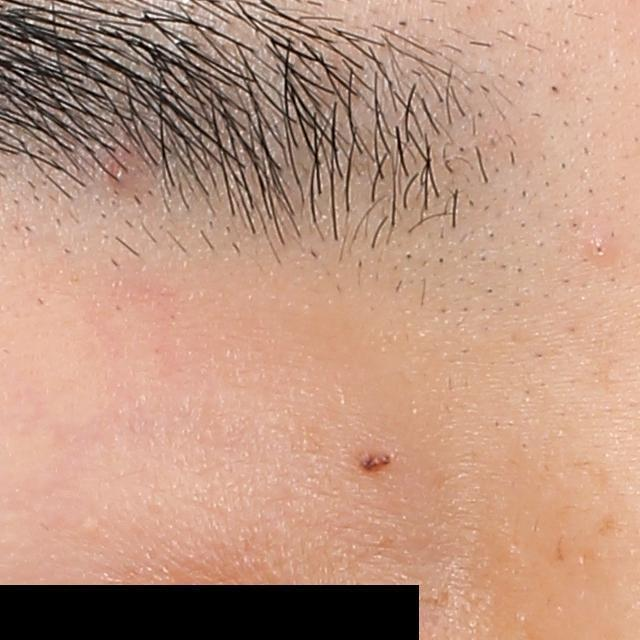papule: (108, 149, 139, 197), (583, 235, 617, 266)
